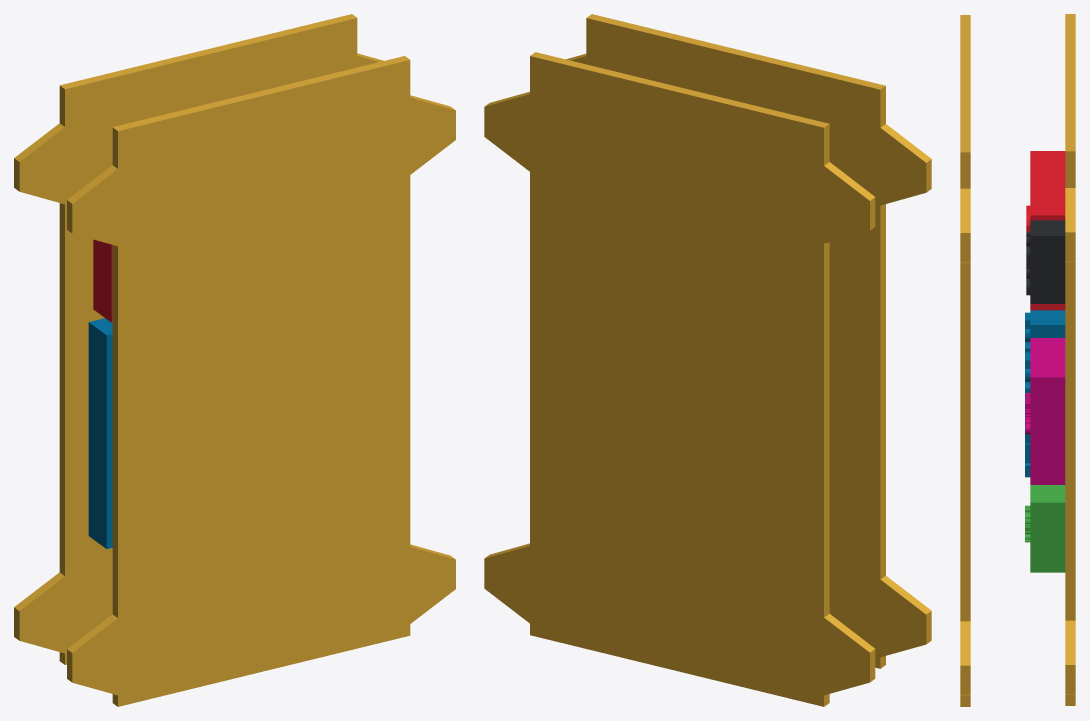
File: tinker.obj
3 views of the same model, side by side, from view 1: azimuth 30°, elevation 25°; view 2: azimuth 150°, elevation 25°; view 3: azimuth 270°, elevation 25° (orthographic). The views are drawn at different scales.
Parts seen in each view (by area): view 1: group_0_14789940, group_0_30377, group_0_15277357; view 2: group_0_14789940; view 3: group_0_14789940, group_0_14093196, group_0_4634441, group_0_2829873, group_0_15277357, group_0_30377.
Boxes of the visible parts, x1,y1,x2,y2 form: group_0_14789940: (14, 14, 455, 706); group_0_30377: (88, 318, 112, 548); group_0_15277357: (93, 239, 112, 322); group_0_14789940: (484, 14, 931, 706); group_0_14789940: (960, 14, 1075, 706); group_0_14093196: (1025, 338, 1065, 484); group_0_4634441: (1025, 485, 1065, 572); group_0_2829873: (1026, 220, 1065, 303); group_0_15277357: (1026, 151, 1065, 310); group_0_30377: (1025, 310, 1065, 477).
Bounding box in the file's own units: 245 × 351 × 66.
